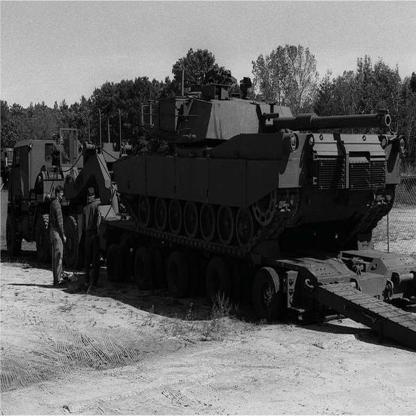Tank: (118, 82, 405, 260)
